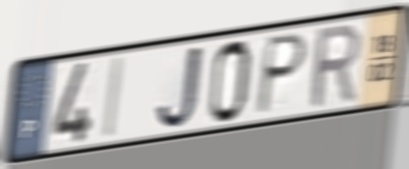0: (207, 37, 255, 125)
4: (49, 58, 94, 147)
I: (101, 54, 127, 143)
J: (154, 43, 206, 134)
P: (252, 31, 310, 119)
R: (309, 20, 362, 113)
